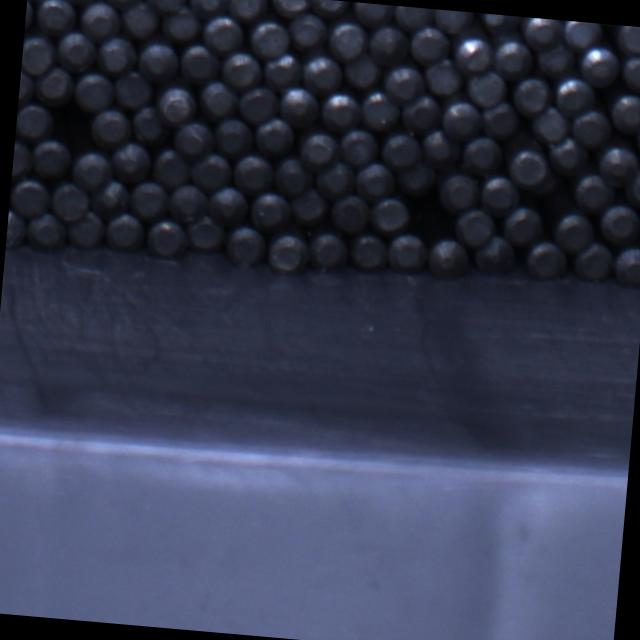tool: (449, 26, 494, 70), (70, 146, 114, 190), (576, 42, 620, 86), (419, 127, 464, 170), (358, 88, 401, 132), (502, 204, 546, 247), (426, 236, 470, 279), (385, 232, 428, 275), (33, 64, 76, 107), (8, 175, 51, 218), (440, 98, 483, 141), (278, 84, 321, 127), (224, 223, 267, 266), (479, 173, 522, 216), (232, 152, 276, 194), (138, 40, 182, 82), (252, 116, 296, 158), (248, 18, 292, 60), (596, 144, 638, 188), (206, 185, 250, 227), (89, 106, 133, 148), (156, 81, 200, 123), (472, 235, 516, 277), (29, 138, 72, 180), (56, 29, 98, 72), (326, 18, 368, 61), (202, 12, 245, 54), (598, 202, 640, 245), (77, 0, 120, 42), (439, 170, 482, 212), (320, 89, 363, 131), (552, 210, 595, 252), (103, 210, 146, 252), (399, 92, 442, 134), (94, 35, 138, 76), (524, 240, 568, 281), (383, 61, 427, 102), (548, 136, 592, 177), (367, 24, 409, 66), (72, 70, 114, 112), (330, 192, 372, 234), (492, 38, 534, 80), (268, 230, 310, 272), (306, 230, 348, 272), (288, 186, 330, 228), (296, 127, 338, 169), (509, 75, 552, 116), (408, 25, 451, 66), (300, 53, 343, 94), (573, 241, 616, 282), (338, 126, 381, 167), (316, 162, 359, 203), (188, 152, 232, 192), (394, 158, 438, 198), (48, 180, 90, 221), (508, 145, 550, 186), (453, 206, 495, 247), (274, 156, 316, 197), (112, 144, 153, 186), (150, 150, 192, 191), (238, 85, 281, 125), (465, 67, 508, 107), (179, 42, 222, 82), (145, 218, 188, 258), (212, 116, 255, 156), (24, 210, 67, 250), (573, 173, 616, 213), (220, 50, 262, 90), (570, 106, 612, 146), (112, 70, 154, 110), (424, 56, 466, 96), (354, 164, 396, 204), (128, 180, 170, 220), (554, 76, 596, 116), (197, 80, 239, 120), (482, 98, 524, 138), (288, 9, 330, 49), (262, 51, 304, 91), (64, 208, 106, 248), (160, 2, 203, 41), (534, 40, 578, 78), (530, 105, 571, 145), (346, 232, 387, 272), (119, 0, 161, 39), (460, 135, 502, 174), (183, 214, 226, 252), (14, 102, 54, 142), (250, 190, 290, 230), (168, 183, 208, 223), (368, 195, 409, 234), (341, 51, 382, 90), (173, 118, 215, 156), (380, 131, 420, 170), (87, 178, 128, 216), (20, 34, 56, 76), (520, 16, 564, 50), (35, 0, 77, 35), (131, 106, 169, 144), (607, 92, 640, 134), (560, 20, 601, 49), (352, 2, 398, 27), (613, 245, 640, 287), (432, 9, 474, 34), (392, 6, 434, 30), (5, 206, 28, 248), (12, 138, 32, 180), (227, 0, 267, 20), (306, 0, 349, 18), (621, 50, 640, 90), (267, 0, 311, 17), (189, 0, 230, 15), (18, 68, 34, 106), (145, 0, 187, 12), (627, 166, 640, 204), (621, 25, 640, 50), (23, 0, 34, 34), (101, 0, 145, 7)
